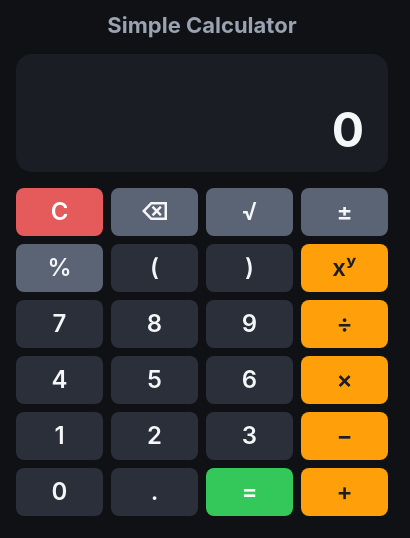
Test: App › appends an operator after a digit
The width and height of the screenshot is (410, 538).
What coordinates should you click on to do the following:
click the button "2"
I would click on:
 (154, 436)
Its box is [111, 412, 198, 460].
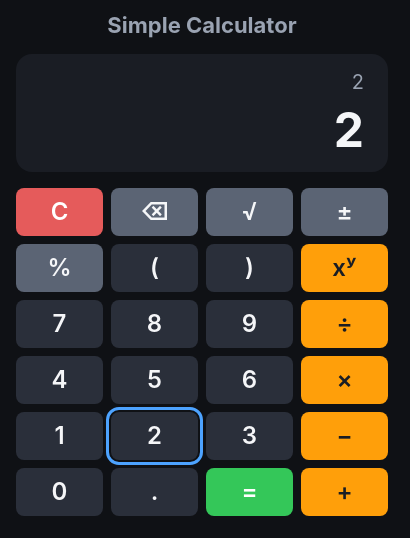
What coordinates should you click on to do the following:
click the button named "add"
I would click on:
 (344, 492)
Its box is [301, 468, 388, 516].
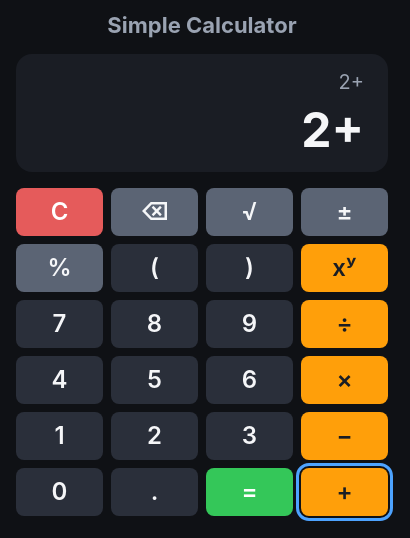
Expected: the message reads "2+", [301, 100, 364, 159]
